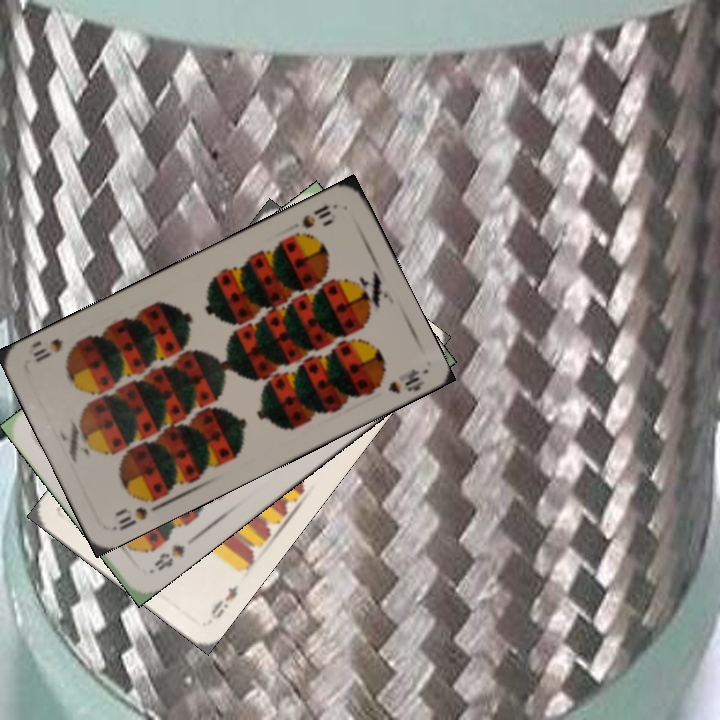E9: (206, 580, 242, 622)
S10: (109, 491, 165, 533), (298, 200, 334, 232)
S8: (150, 540, 188, 574)
